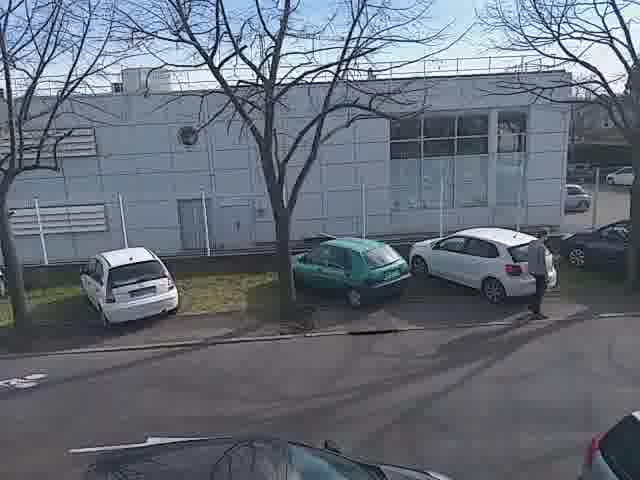persona: (517, 226, 559, 318)
